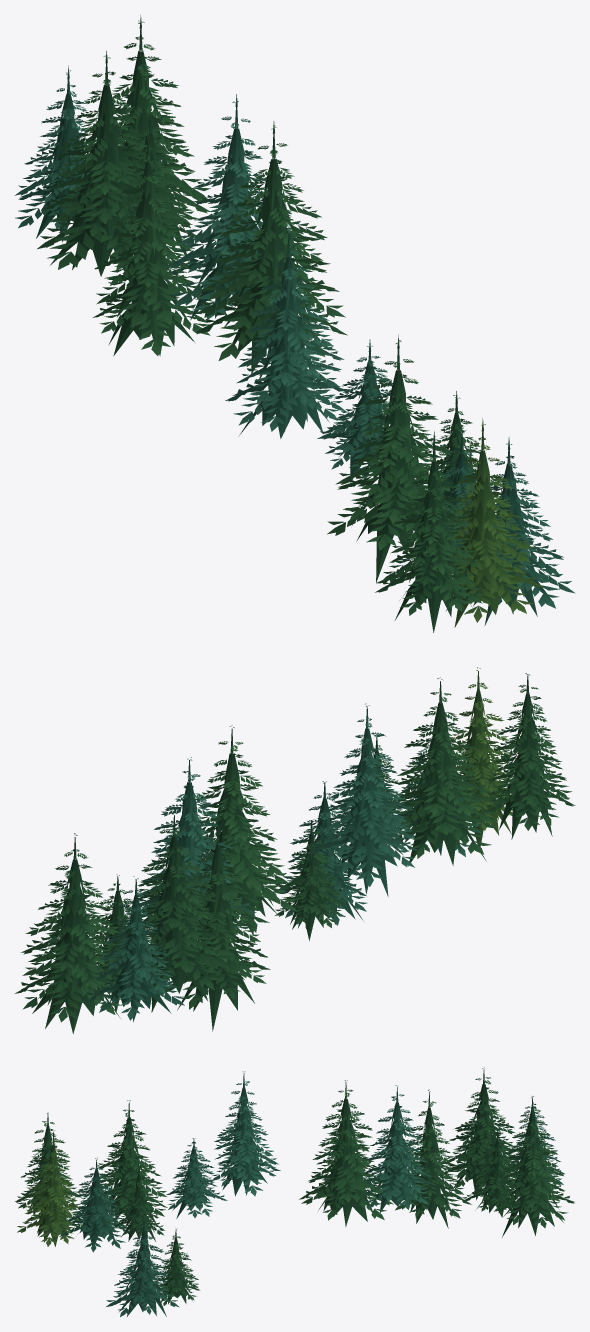
The picture shows the model from 3 angles, top to bottom: view 1: azimuth 30°, elevation 25°; view 2: azimuth 150°, elevation 25°; view 3: azimuth 270°, elevation 25°; orthographic projection. The views are drawn at different scales.
Visible parts, largest first — view 1: pn_26; view 2: pn_26; view 3: pn_26.
Part boxes in pixels (bbox=[...]): pn_26: bbox=[15, 15, 575, 632]; pn_26: bbox=[14, 667, 575, 1033]; pn_26: bbox=[15, 1067, 574, 1316].
Bounding box in the file's own units: 16.71 × 23.55 × 53.77.
1 material, 1 textured.
